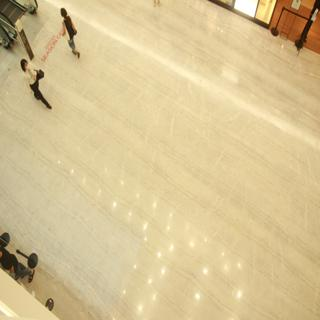person: (16, 53, 61, 110), (54, 5, 91, 57)
